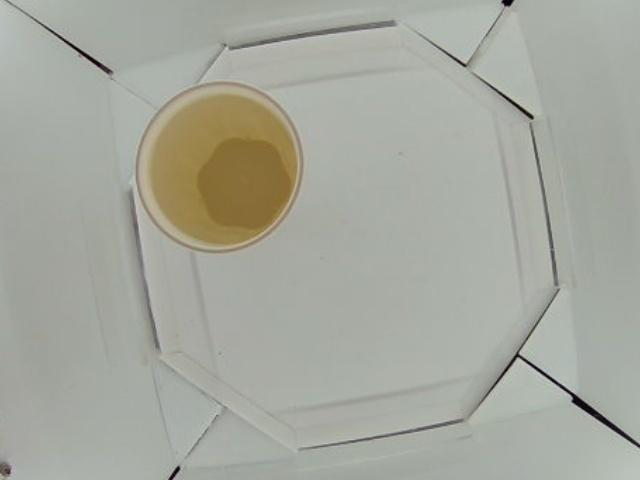Cup: (135, 80, 303, 253)
